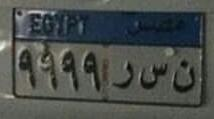9: (37, 48, 59, 91), (82, 52, 103, 91), (61, 49, 79, 92), (18, 50, 37, 89)
noon: (170, 60, 199, 93)
raa: (113, 59, 136, 93)
seen: (139, 61, 168, 89)
